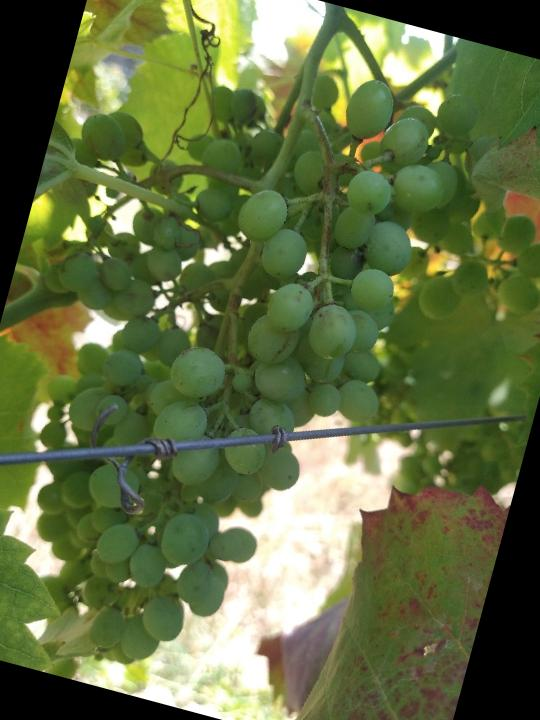grape: (0, 3, 540, 720)
